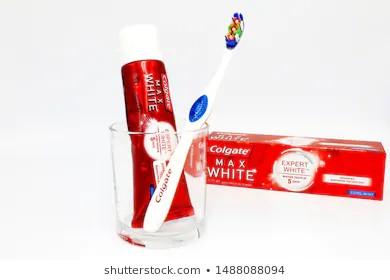toothbrush: (143, 6, 250, 235)
